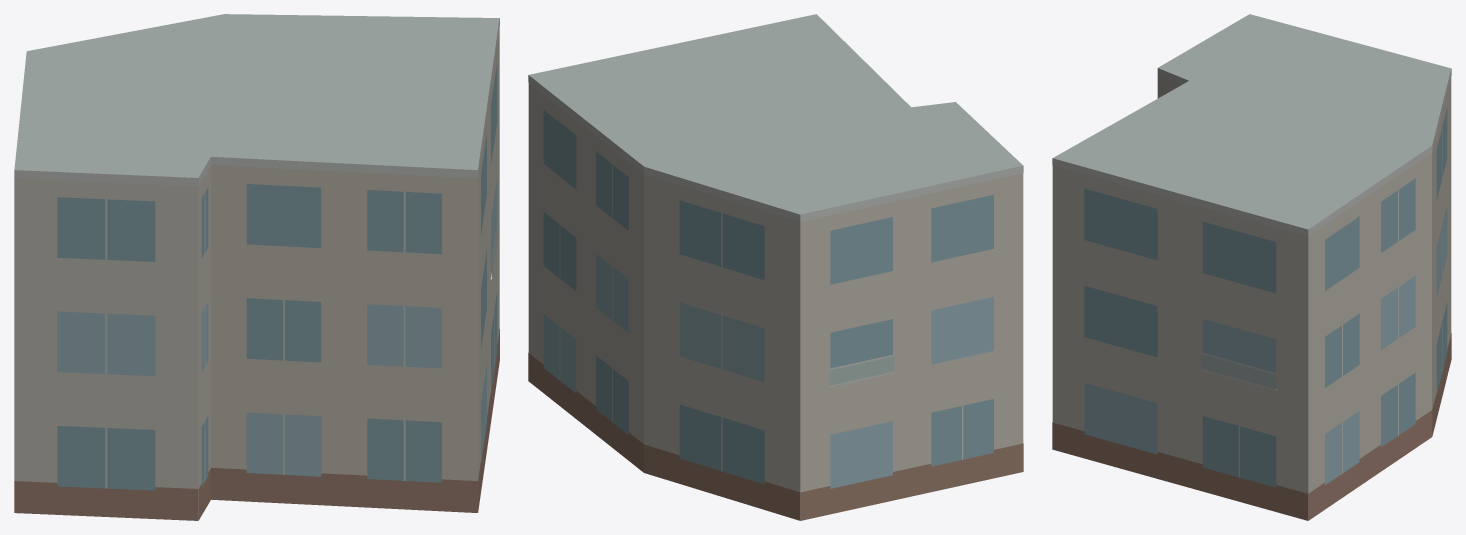
Rendered from survey-upis-32942142.glb.
The picture shows the model from 3 angles, left to right: view 1: azimuth 30°, elevation 25°; view 2: azimuth 150°, elevation 25°; view 3: azimuth 270°, elevation 25°; orthographic projection. The views are drawn at different scales.
Parts seen in each view (by area): view 1: survey-upis-32942142.tmp; view 2: survey-upis-32942142.tmp; view 3: survey-upis-32942142.tmp.
Part boxes in pixels (x1,y1,x2,y2): survey-upis-32942142.tmp: (14,14,499,520); survey-upis-32942142.tmp: (528,14,1023,520); survey-upis-32942142.tmp: (1052,14,1451,520).
Size of the model in its own units: 16.03 by 10.1 by 12.54.
